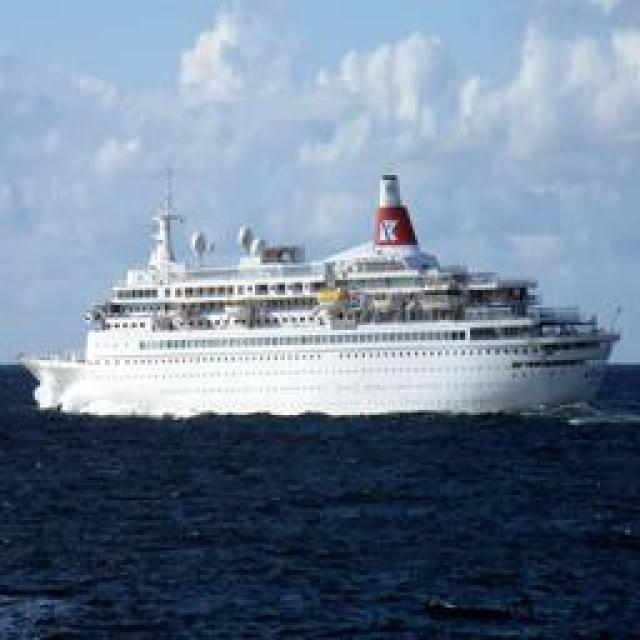CIV_Ship: (32, 168, 612, 422)
